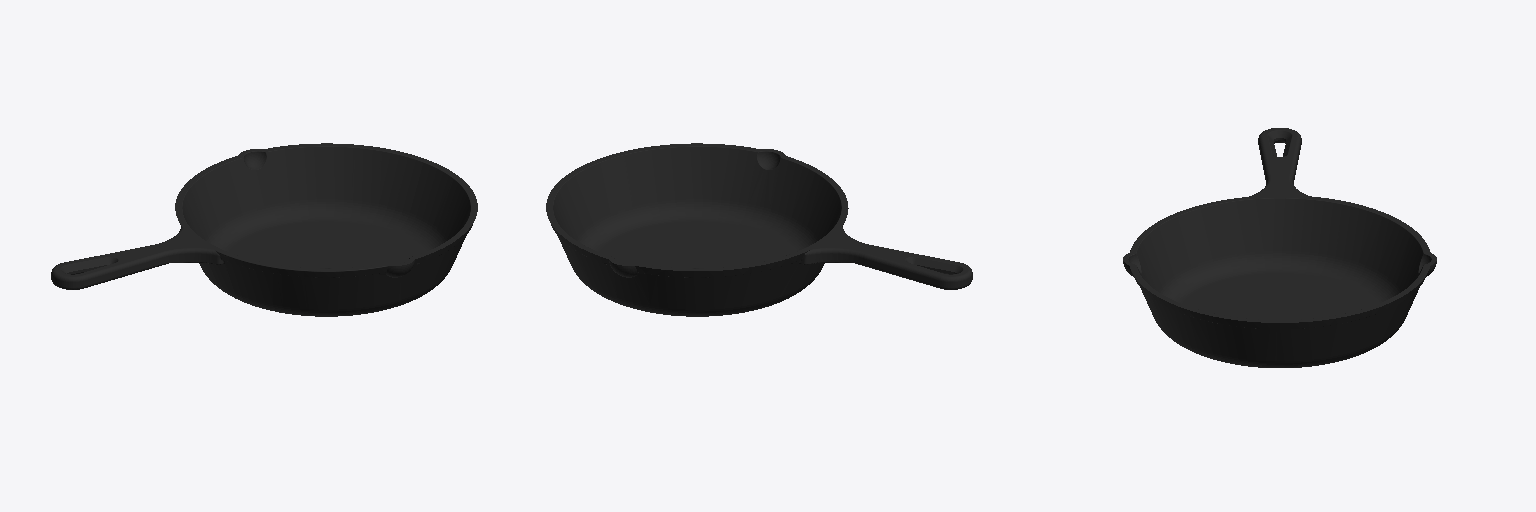
File: skillet.obj
3 renders of one model, left to right at view 1: azimuth 30°, elevation 25°; view 2: azimuth 150°, elevation 25°; view 3: azimuth 270°, elevation 25°, orthographic.
Visible parts, largest first — view 1: mesh115, mesh2, mesh117, mesh116, mesh111, mesh1, mesh69; view 2: mesh115, mesh2, mesh117, mesh116, mesh111, mesh1, mesh24; view 3: mesh115, mesh2, mesh117, mesh116, mesh111, mesh13, mesh1.
Boxes of the visible parts, x1=… form: mesh115: x1=183, y1=147, x2=470, y2=239; mesh2: x1=199, y1=235, x2=466, y2=309; mesh117: x1=229, y1=221, x2=424, y2=267; mesh116: x1=205, y1=199, x2=447, y2=251; mesh111: x1=56, y1=143, x2=477, y2=276; mesh1: x1=203, y1=271, x2=449, y2=316; mesh69: x1=217, y1=252, x2=387, y2=277; mesh115: x1=553, y1=147, x2=840, y2=239; mesh2: x1=557, y1=235, x2=824, y2=309; mesh117: x1=599, y1=221, x2=794, y2=267; mesh116: x1=576, y1=199, x2=818, y2=251; mesh111: x1=546, y1=143, x2=967, y2=276; mesh1: x1=574, y1=271, x2=820, y2=316; mesh24: x1=635, y1=250, x2=809, y2=277; mesh115: x1=1137, y1=199, x2=1422, y2=291; mesh2: x1=1141, y1=289, x2=1418, y2=360; mesh117: x1=1182, y1=273, x2=1377, y2=319; mesh116: x1=1159, y1=251, x2=1400, y2=303; mesh111: x1=1123, y1=128, x2=1436, y2=322; mesh13: x1=1131, y1=271, x2=1428, y2=328; mesh1: x1=1156, y1=322, x2=1403, y2=367.
Size of the model in its own units: 0.323 by 0.048 by 0.218.